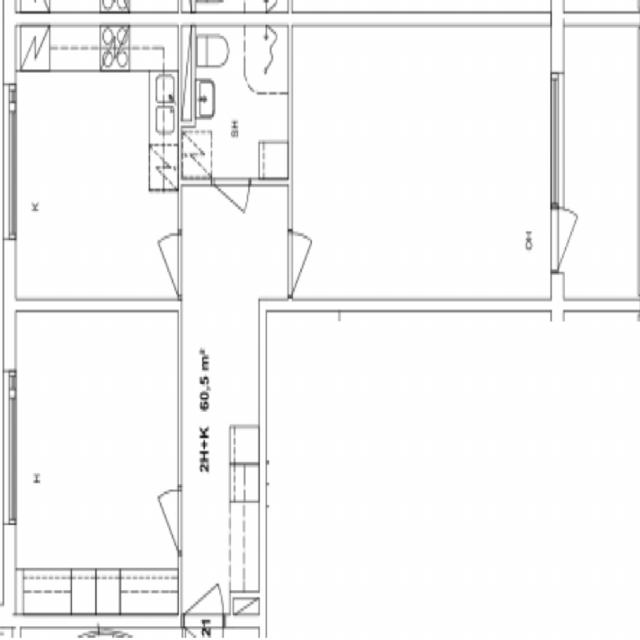door: (551, 208, 605, 272), (288, 230, 335, 296), (185, 554, 223, 626), (138, 490, 180, 552), (139, 235, 181, 295), (214, 180, 248, 238)
